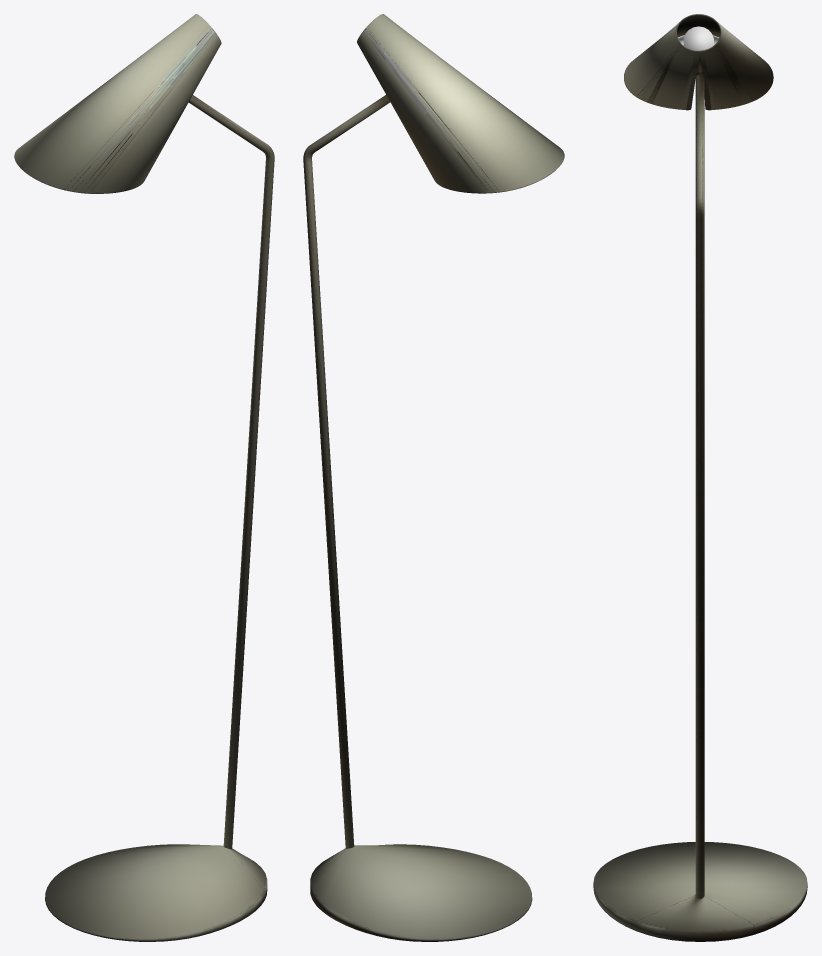
Rendered from Lampada_2.glb.
The picture shows the model from 3 angles, left to right: view 1: azimuth 30°, elevation 25°; view 2: azimuth 150°, elevation 25°; view 3: azimuth 270°, elevation 25°; orthographic projection. The views are drawn at different scales.
Visible parts, largest first — view 1: 0712; view 2: 0712; view 3: 0712.
Part boxes in pixels (x1,y1,x2,y2): 0712: [14, 14, 274, 941]; 0712: [303, 14, 564, 941]; 0712: [593, 14, 807, 941].
Bounding box in the file's own units: 0.3909 × 1.31 × 0.2824.
Materials: 2 (1 with a texture image).
